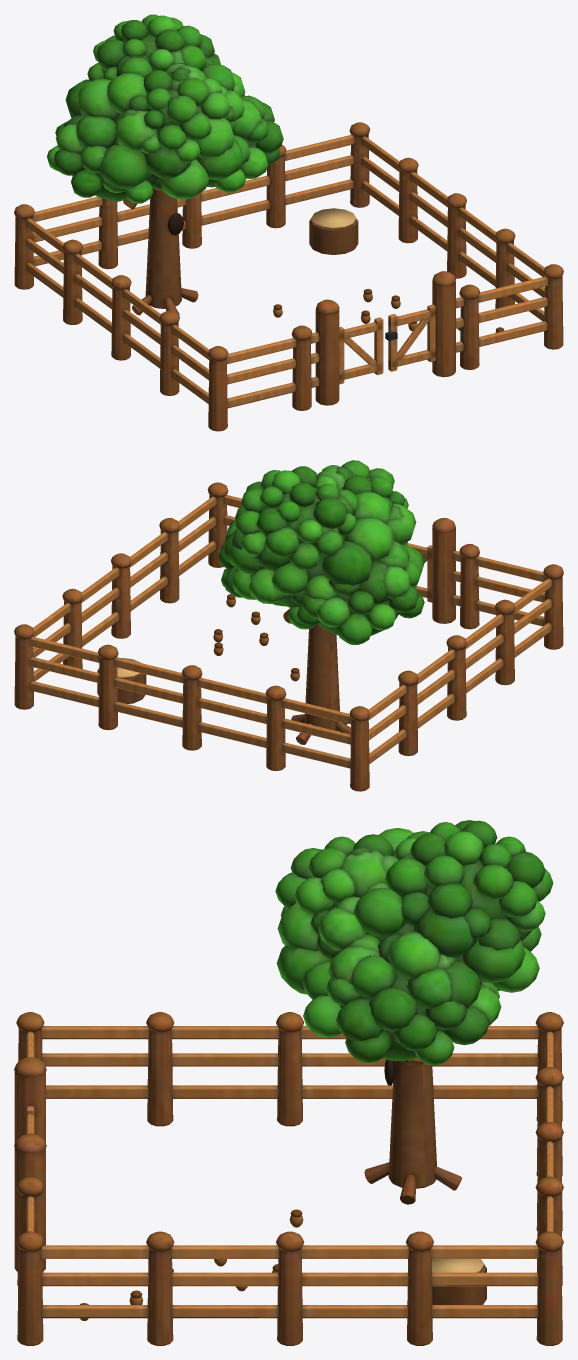
The model's file is squirrel_grove.glb.
3 views of the same model, one above another, from view 1: azimuth 30°, elevation 25°; view 2: azimuth 150°, elevation 25°; view 3: azimuth 270°, elevation 25° (orthographic). The views are drawn at different scales.
Visible parts, largest first — view 1: squirrel_grove, gate1, gate0; view 2: squirrel_grove, gate0; view 3: squirrel_grove.
Boxes of the visible parts, left/top/right/bottom form: squirrel_grove: left=14, top=14, right=563, bottom=431; gate1: left=385, top=304, right=435, bottom=371; gate0: left=339, top=317, right=383, bottom=384; squirrel_grove: left=14, top=460, right=563, bottom=791; gate0: left=407, top=543, right=432, bottom=602; squirrel_grove: left=14, top=820, right=563, bottom=1345.
Size of the model in its own units: 2.02 by 1.47 by 2.01.
Materials: 1 (1 with a texture image).
